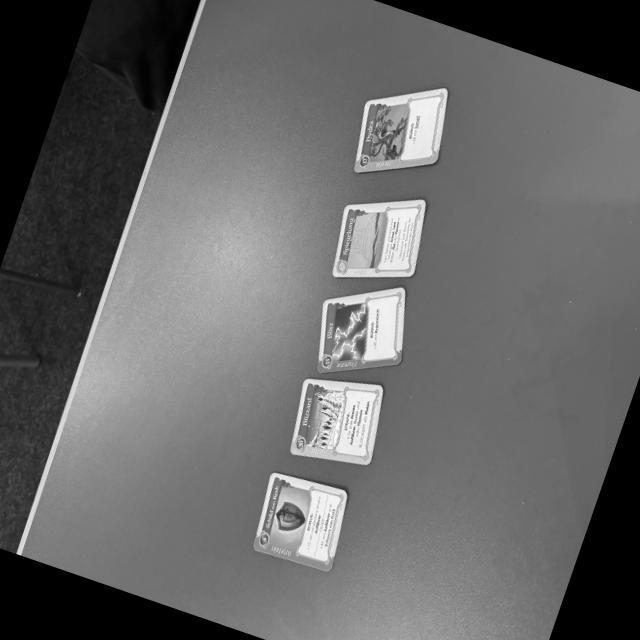Blizzard: (290, 378, 384, 464)
Hydra: (355, 87, 447, 172)
Lightning: (317, 286, 405, 372)
Mirage: (333, 198, 426, 276)
Shield Of Keth: (254, 471, 348, 571)
